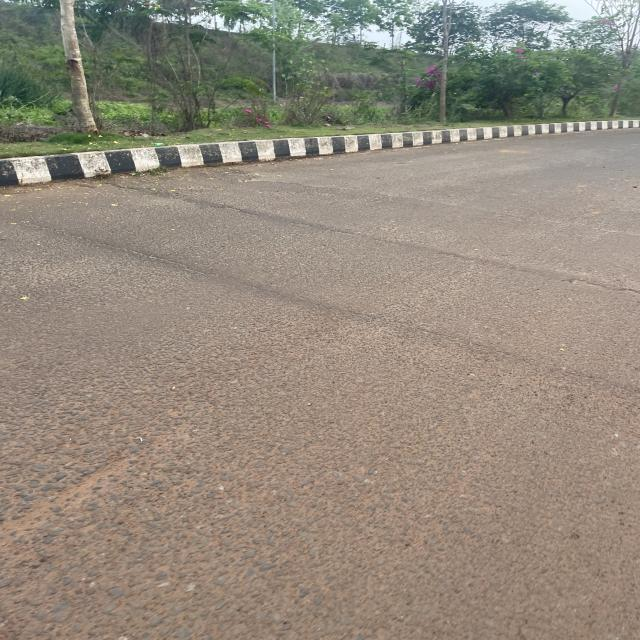D11: (56, 227, 372, 336)
